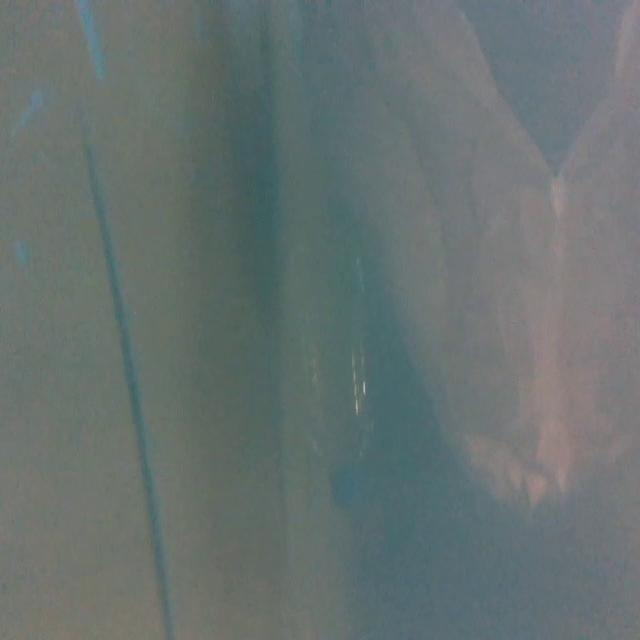plastic bags: (310, 6, 632, 516)
plastic bottle: (297, 238, 380, 512)
